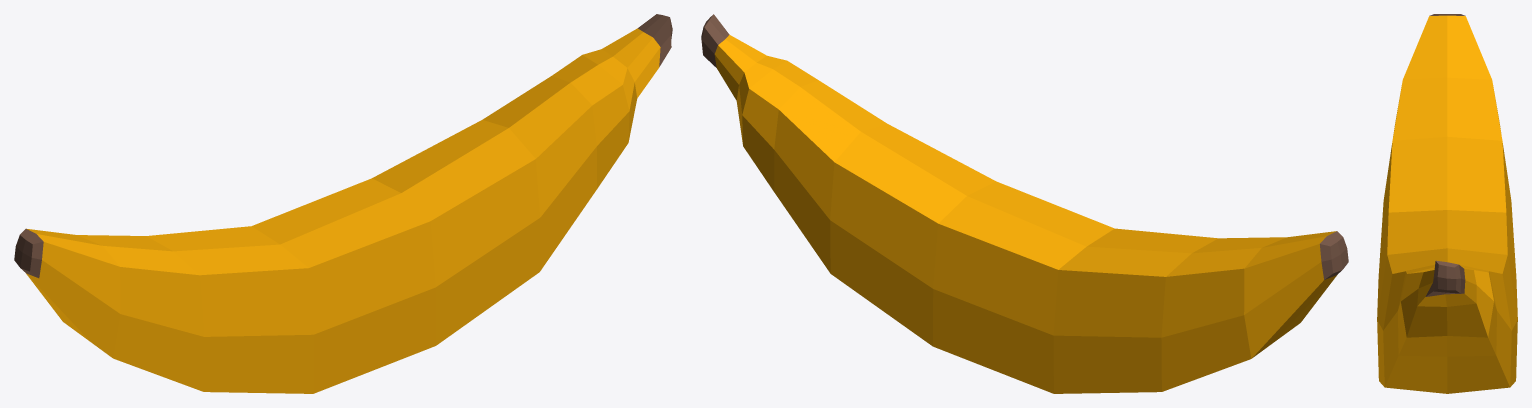
File: SM_Food_Banana_01.fbx
The picture shows the model from 3 angles, left to right: view 1: azimuth 30°, elevation 25°; view 2: azimuth 150°, elevation 25°; view 3: azimuth 270°, elevation 25°; orthographic projection. The views are drawn at different scales.
Parts seen in each view (by area): view 1: SM_Food_Banana_01; view 2: SM_Food_Banana_01; view 3: SM_Food_Banana_01.
Boxes of the visible parts, x1,y1,x2,y2 form: SM_Food_Banana_01: (14,14,672,393); SM_Food_Banana_01: (701,14,1348,393); SM_Food_Banana_01: (1377,14,1517,393).
Size of the model in its own units: 0.291 by 0.118 by 0.0533.
